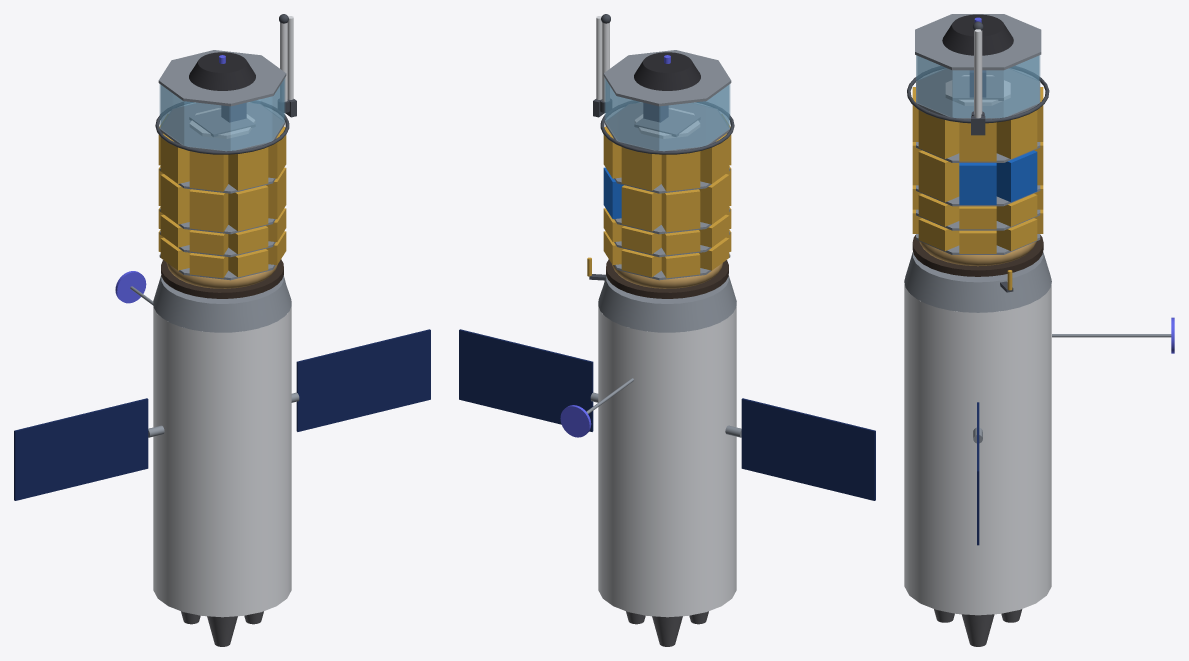
Rendered from LELP-1.glb.
The picture shows the model from 3 angles, left to right: view 1: azimuth 30°, elevation 25°; view 2: azimuth 150°, elevation 25°; view 3: azimuth 270°, elevation 25°; orthographic projection. The views are drawn at different scales.
Visible parts, largest first — view 1: RUPAK_upper_stage_simplified, solar_wing_-X_300_W, solar_wing_+X_300_W, central_chamber_wall, stage_adapter, chamber_lid, bay_ring_5_top, parachute_canister_9_m_main, bay_L_23, rigid_nose_stowed_under_the_lab, bay_L_22, bay_L_31 (+16 smaller); view 2: RUPAK_upper_stage_simplified, solar_wing_-X_300_W, solar_wing_+X_300_W, central_chamber_wall, stage_adapter, chamber_lid, bay_ring_5_top, parachute_canister_9_m_main, bay_L_19, rigid_nose_stowed_under_the_lab, bay_L_20, bay_L_27 (+16 smaller); view 3: RUPAK_upper_stage_simplified, central_chamber_wall, stage_adapter, chamber_lid, bay_ring_5_top, parachute_canister_9_m_main, rigid_nose_stowed_under_the_lab, bay_L_24, bay_L_18, bay_L_17, bay_L_26, bay_L_32 (+17 smaller).
Boxes of the visible parts, x1,y1,x2,y2 form: RUPAK_upper_stage_simplified: [153, 306, 291, 617]; solar_wing_-X_300_W: [14, 398, 148, 500]; solar_wing_+X_300_W: [296, 329, 430, 431]; central_chamber_wall: [159, 78, 285, 150]; stage_adapter: [153, 275, 291, 332]; chamber_lid: [158, 50, 286, 106]; bay_ring_5_top: [160, 102, 285, 151]; parachute_canister_9_m_main: [189, 52, 255, 90]; bay_L_23: [228, 185, 268, 231]; rigid_nose_stowed_under_the_lab: [161, 259, 283, 298]; bay_L_22: [189, 189, 228, 232]; bay_L_31: [228, 147, 268, 190]; RUPAK_upper_stage_simplified: [598, 306, 736, 617]; solar_wing_-X_300_W: [741, 398, 875, 500]; solar_wing_+X_300_W: [459, 329, 593, 431]; central_chamber_wall: [604, 78, 730, 150]; stage_adapter: [598, 275, 736, 332]; chamber_lid: [603, 50, 731, 106]; bay_ring_5_top: [604, 102, 729, 151]; parachute_canister_9_m_main: [634, 52, 700, 90]; bay_L_19: [621, 185, 661, 231]; rigid_nose_stowed_under_the_lab: [606, 259, 728, 298]; bay_L_20: [661, 189, 700, 232]; bay_L_27: [621, 147, 661, 190]; RUPAK_upper_stage_simplified: [904, 284, 1051, 615]; central_chamber_wall: [916, 55, 1040, 118]; stage_adapter: [904, 251, 1051, 312]; chamber_lid: [915, 14, 1041, 70]; bay_ring_5_top: [916, 68, 1040, 119]; parachute_canister_9_m_main: [942, 14, 1013, 55]; rigid_nose_stowed_under_the_lab: [912, 235, 1043, 276]; bay_L_24: [918, 150, 959, 202]; bay_L_18: [996, 150, 1037, 202]; bay_L_17: [959, 163, 996, 204]; bay_L_26: [996, 110, 1037, 158]; bay_L_32: [918, 110, 959, 158].
Size of the model in its own units: 4.28 by 5.9 by 2.27.
